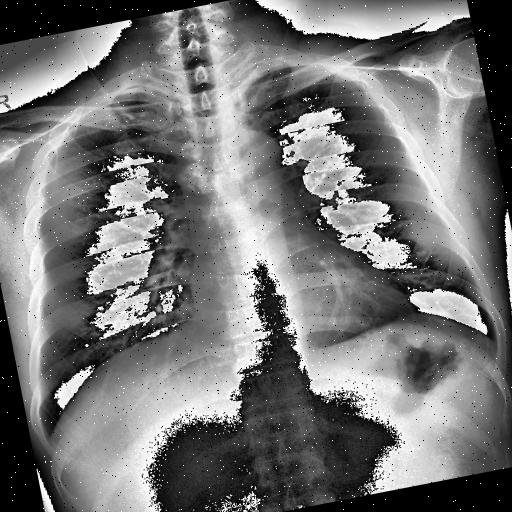0- Aortic enlargement: (214, 120, 291, 192)
2- Calcification: (170, 138, 216, 202)
9- Other lesion: (170, 138, 216, 202), (176, 163, 206, 197), (176, 139, 200, 162)
